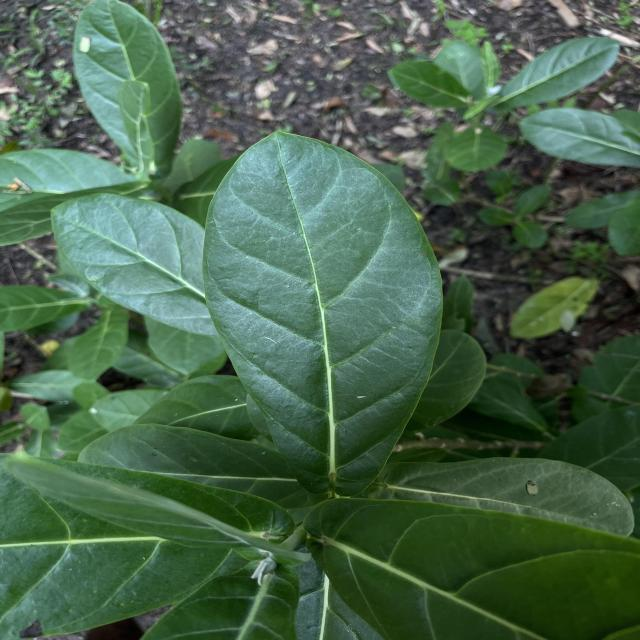Calotropis gigantea: (199, 120, 448, 493), (47, 189, 235, 345), (66, 2, 188, 171), (502, 26, 622, 104), (510, 105, 640, 171)
